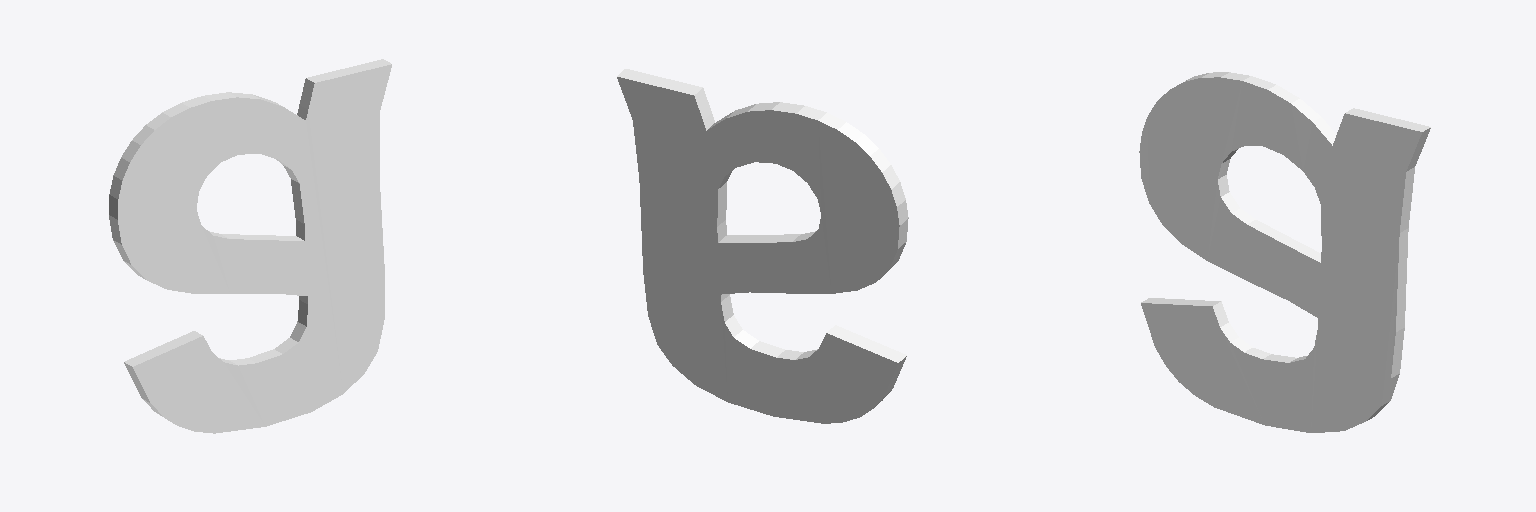
The model's file is original-27.obj.
3 views of the same model, side by side, from view 1: azimuth 30°, elevation 25°; view 2: azimuth 150°, elevation 25°; view 3: azimuth 330°, elevation 25° (orthographic).
Visible parts, largest first — view 1: mesh88/mesh88-geometry#mesh88-geometry; view 2: mesh88/mesh88-geometry#mesh88-geometry; view 3: mesh88/mesh88-geometry#mesh88-geometry.
Boxes of the visible parts, x1=… form: mesh88/mesh88-geometry#mesh88-geometry: x1=109, y1=59, x2=391, y2=433; mesh88/mesh88-geometry#mesh88-geometry: x1=617, y1=69, x2=908, y2=423; mesh88/mesh88-geometry#mesh88-geometry: x1=1139, y1=72, x2=1430, y2=432.
Size of the model in its own units: 0.0123 by 0.0137 by 0.0019.